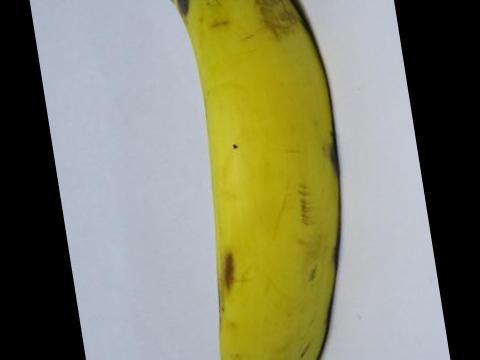freshripe: (157, 0, 367, 359)
